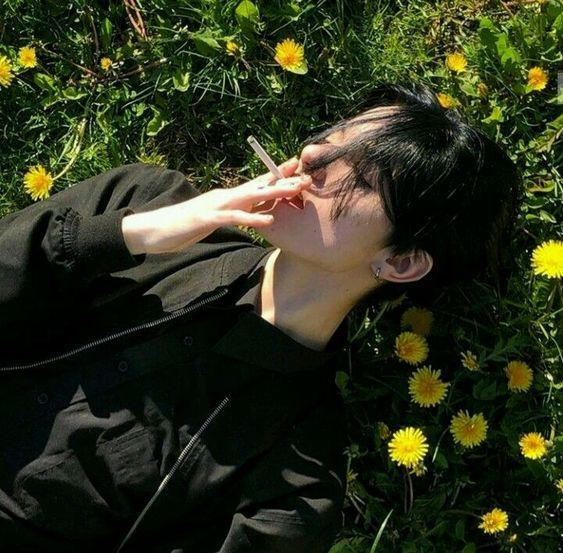cigarette: (246, 135, 286, 181)
